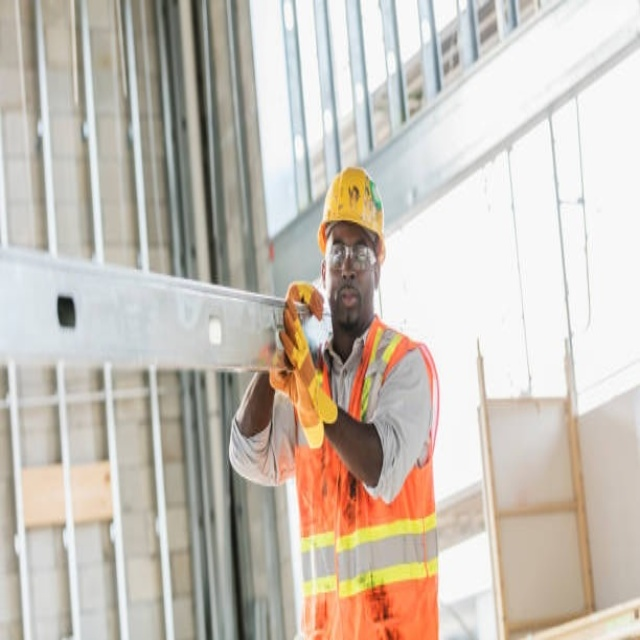Gafas: (326, 241, 378, 273)
Guantes: (272, 298, 340, 448)
Sin_mascara: (336, 281, 363, 325)
